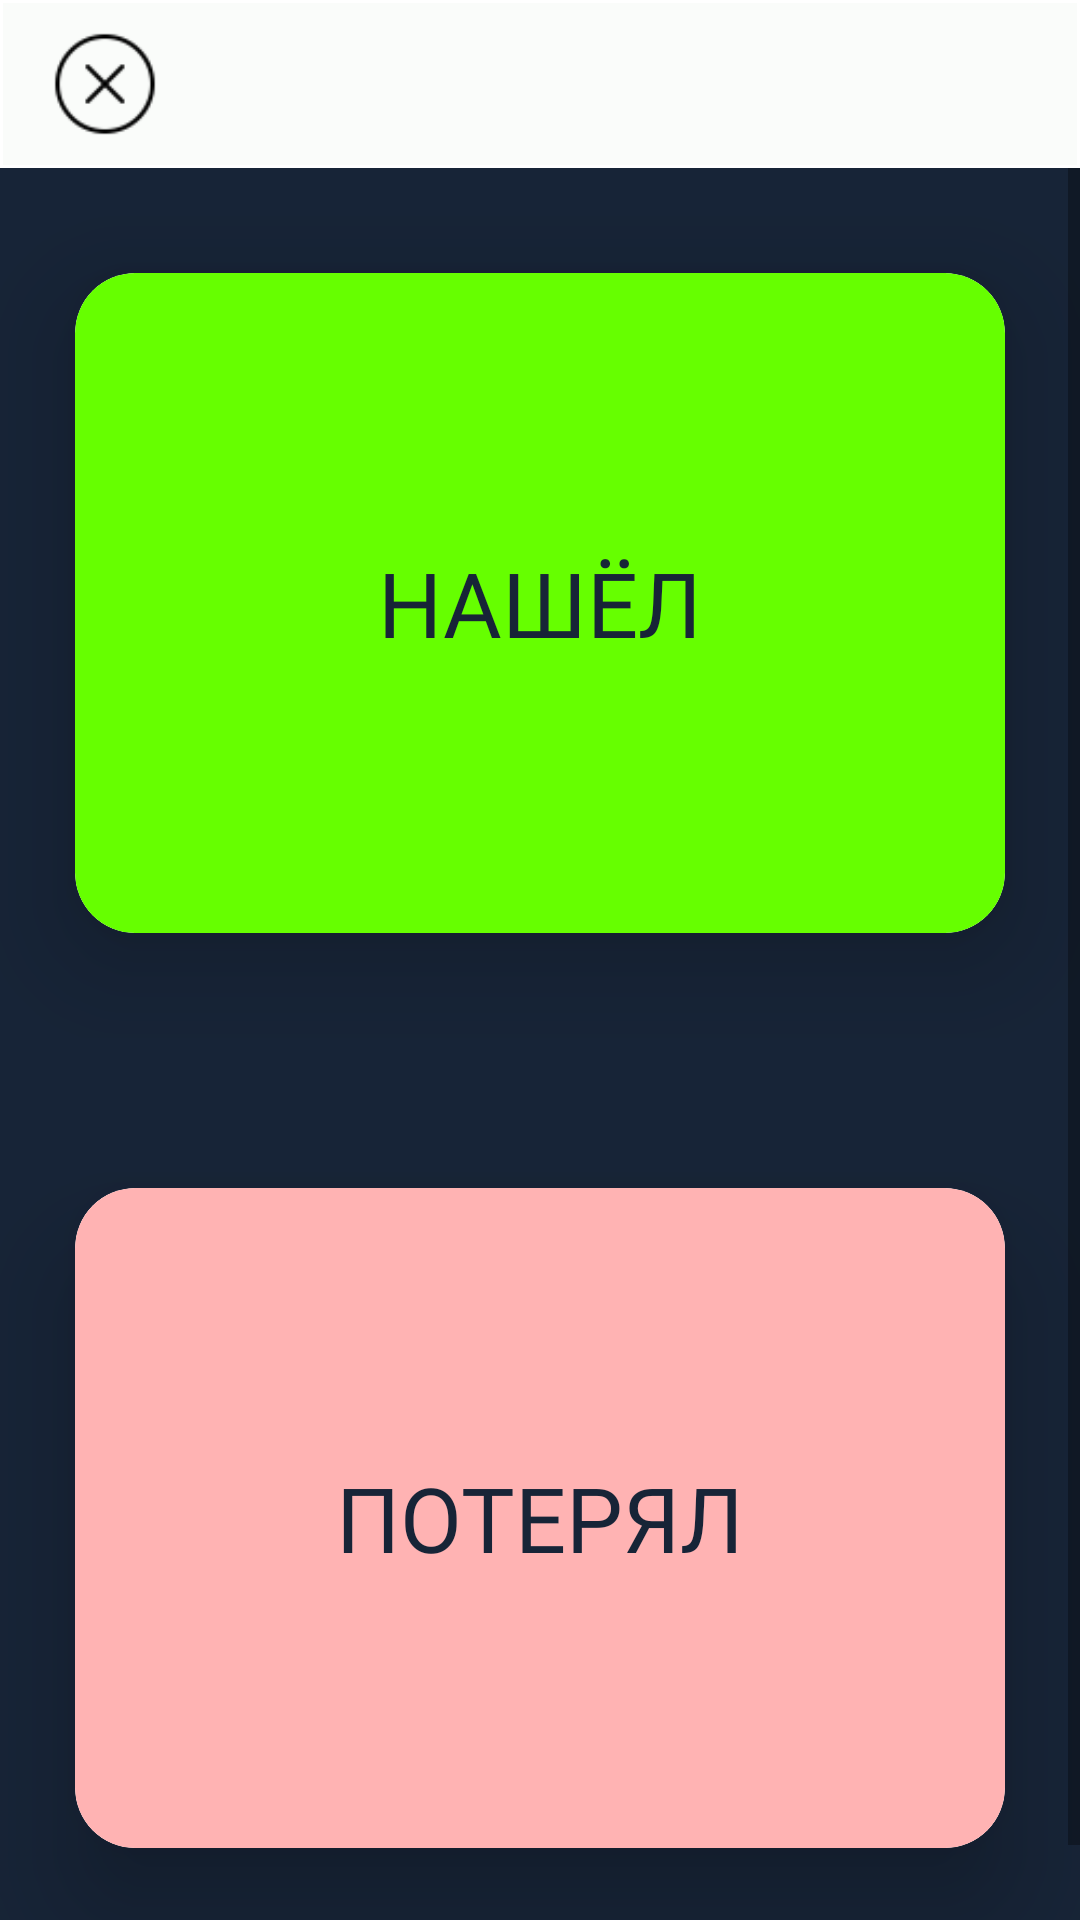

Screen size 1080*1920. Icon name, then its box in pixels as (left=x1, top=y1, right=x2, bottom=y2):
close: (left=54, top=33, right=156, bottom=135)
